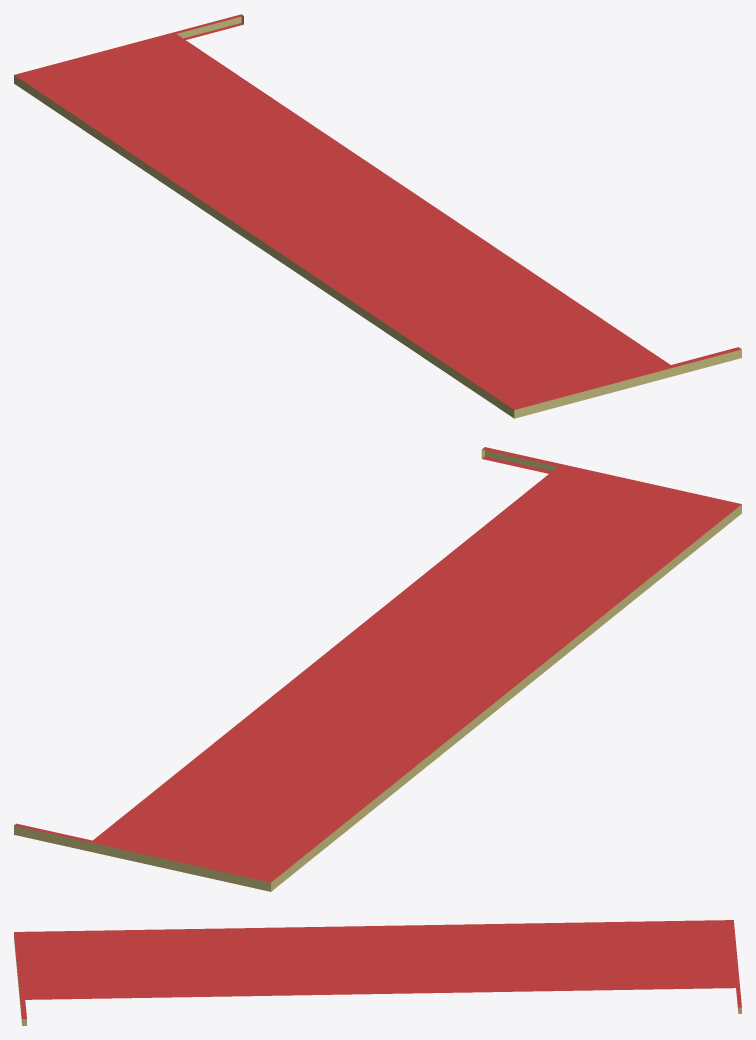
3 renders of one model, top to bottom at view 1: azimuth 30°, elevation 25°; view 2: azimuth 150°, elevation 25°; view 3: azimuth 270°, elevation 25°, orthographic. The views are drawn at different scales.
Size of the model in its own units: 3.19 by 9.9 by 0.1.
